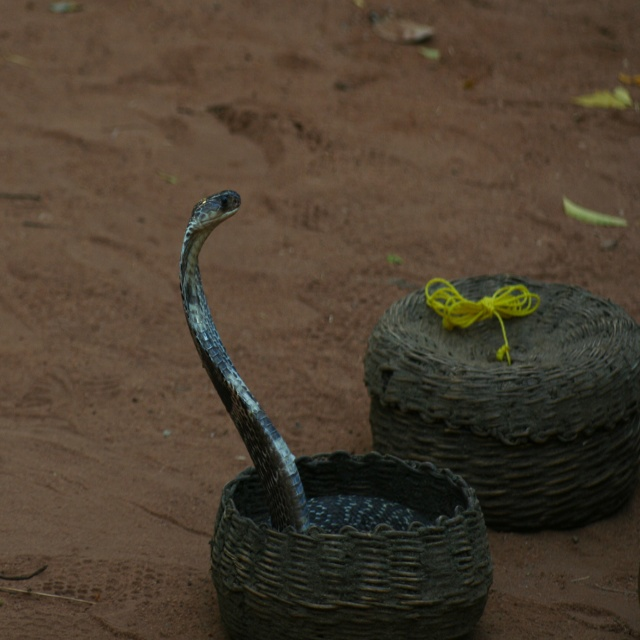Snake: (183, 180, 406, 582)
